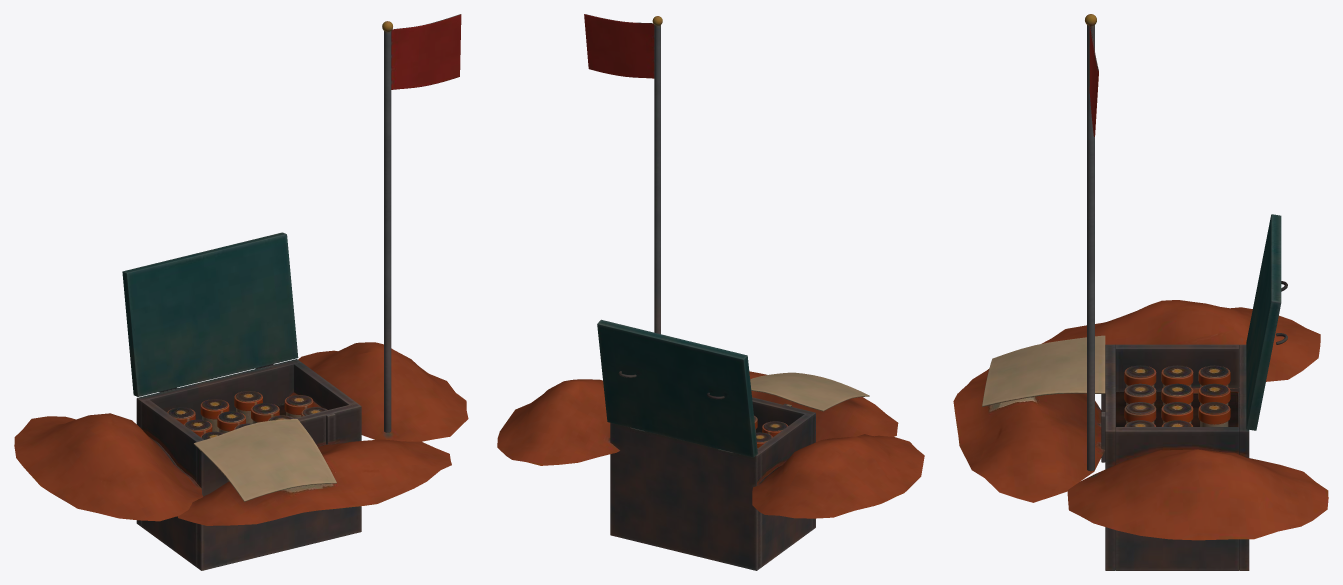
Rendered from filter_cache.glb.
3 renders of one model, left to right at view 1: azimuth 30°, elevation 25°; view 2: azimuth 150°, elevation 25°; view 3: azimuth 270°, elevation 25°, orthographic. The views are drawn at different scales.
Visible parts, largest first — view 1: filter_cache; view 2: filter_cache; view 3: filter_cache.
Boxes of the visible parts, <box> form: filter_cache: <box>14,14,468,570</box>; filter_cache: <box>497,14,924,570</box>; filter_cache: <box>953,14,1328,570</box>.
Bounding box in the file's own units: 2.59 × 3.04 × 1.82.
1 material, 1 textured.
